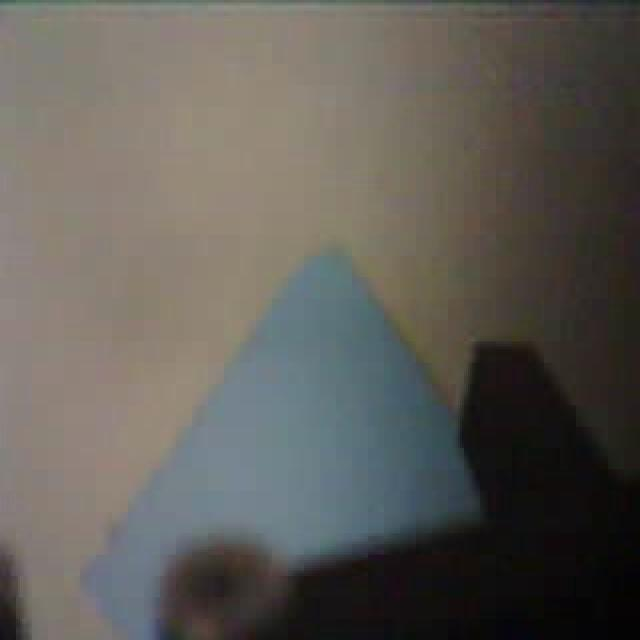blue_box: (78, 243, 488, 637)
